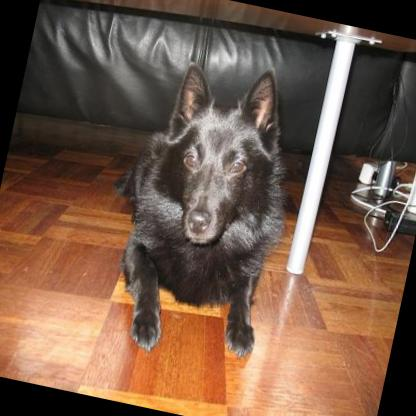schipperke: (98, 50, 312, 389)
